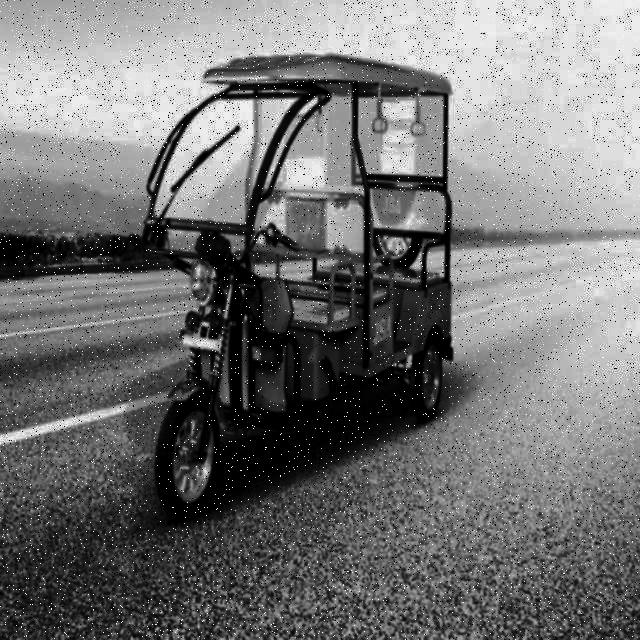Toto: (153, 52, 460, 521)
